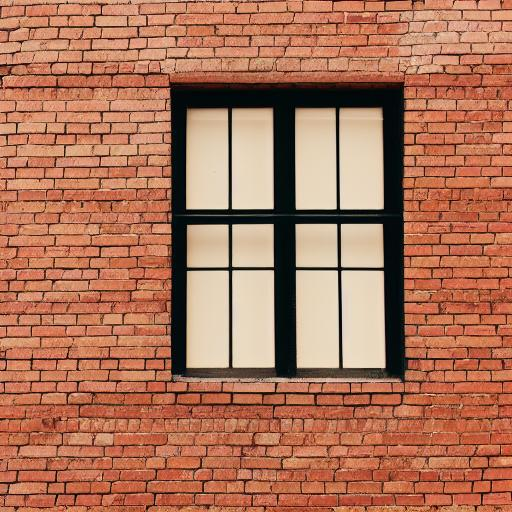Window: (167, 75, 406, 385)
